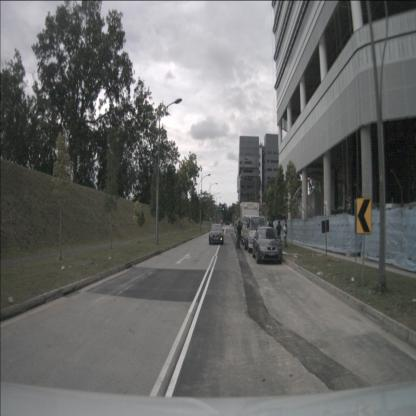human-pedestrian-adult: (275, 221, 282, 249), (235, 221, 242, 249), (266, 219, 272, 242), (283, 218, 287, 249)
vehicle-car: (252, 226, 283, 263), (209, 223, 224, 245)
vehicle-truck: (242, 215, 267, 252), (239, 202, 260, 244)
